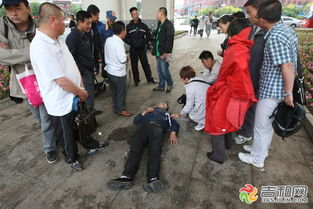fall: (106, 99, 183, 189)
